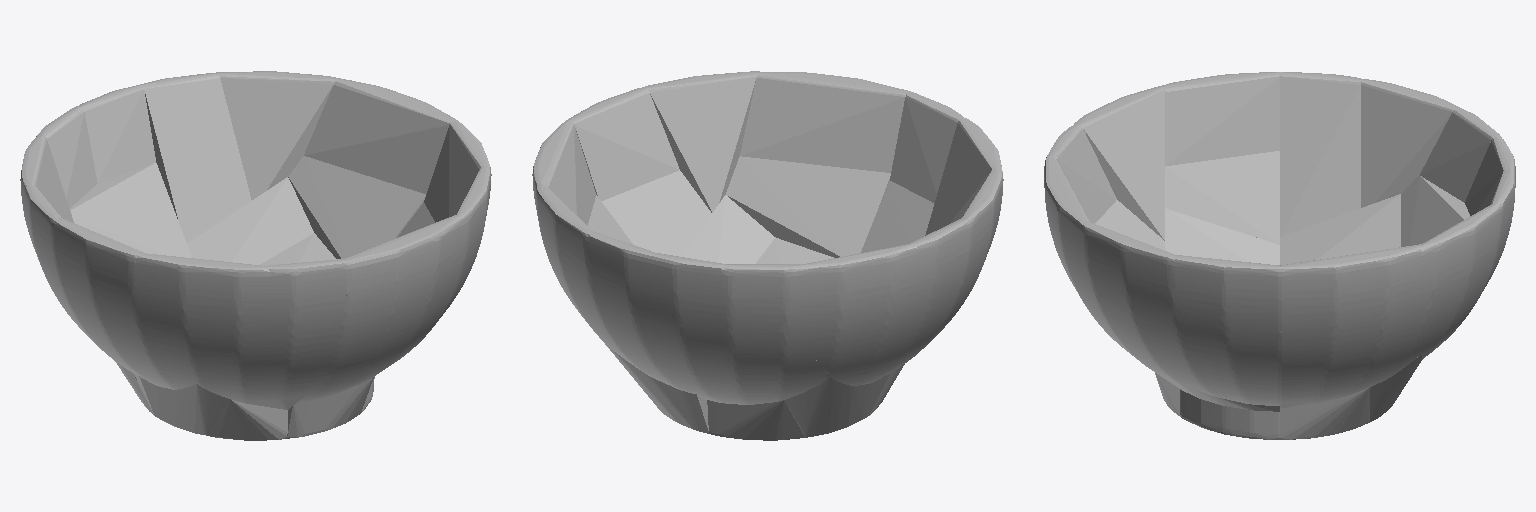
URDF robot description (root):
<robot name="root">
  <link name="object">
    <visual>
      <origin xyz="0 0 0" rpy="0 0 0"/>
      <geometry>
        <mesh filename="coacd_convex_piece_0.obj" scale="1.0000E+00 1.0000E+00 1.0000E+00"/>
      </geometry>
      <material name="">
        <color rgba="7.50E-01 7.50E-01 7.50E-01 1"/>
      </material>
    </visual>
    <collision>
      <origin xyz="0 0 0" rpy="0 0 0"/>
      <geometry>
        <mesh filename="coacd_convex_piece_0.obj" scale="1.0000E+00 1.0000E+00 1.0000E+00"/>
      </geometry>
    </collision>
    <visual>
      <origin xyz="0 0 0" rpy="0 0 0"/>
      <geometry>
        <mesh filename="coacd_convex_piece_1.obj" scale="1.0000E+00 1.0000E+00 1.0000E+00"/>
      </geometry>
      <material name="">
        <color rgba="7.50E-01 7.50E-01 7.50E-01 1"/>
      </material>
    </visual>
    <collision>
      <origin xyz="0 0 0" rpy="0 0 0"/>
      <geometry>
        <mesh filename="coacd_convex_piece_1.obj" scale="1.0000E+00 1.0000E+00 1.0000E+00"/>
      </geometry>
    </collision>
    <visual>
      <origin xyz="0 0 0" rpy="0 0 0"/>
      <geometry>
        <mesh filename="coacd_convex_piece_2.obj" scale="1.0000E+00 1.0000E+00 1.0000E+00"/>
      </geometry>
      <material name="">
        <color rgba="7.50E-01 7.50E-01 7.50E-01 1"/>
      </material>
    </visual>
    <collision>
      <origin xyz="0 0 0" rpy="0 0 0"/>
      <geometry>
        <mesh filename="coacd_convex_piece_2.obj" scale="1.0000E+00 1.0000E+00 1.0000E+00"/>
      </geometry>
    </collision>
    <visual>
      <origin xyz="0 0 0" rpy="0 0 0"/>
      <geometry>
        <mesh filename="coacd_convex_piece_3.obj" scale="1.0000E+00 1.0000E+00 1.0000E+00"/>
      </geometry>
      <material name="">
        <color rgba="7.50E-01 7.50E-01 7.50E-01 1"/>
      </material>
    </visual>
    <collision>
      <origin xyz="0 0 0" rpy="0 0 0"/>
      <geometry>
        <mesh filename="coacd_convex_piece_3.obj" scale="1.0000E+00 1.0000E+00 1.0000E+00"/>
      </geometry>
    </collision>
    <visual>
      <origin xyz="0 0 0" rpy="0 0 0"/>
      <geometry>
        <mesh filename="coacd_convex_piece_4.obj" scale="1.0000E+00 1.0000E+00 1.0000E+00"/>
      </geometry>
      <material name="">
        <color rgba="7.50E-01 7.50E-01 7.50E-01 1"/>
      </material>
    </visual>
    <collision>
      <origin xyz="0 0 0" rpy="0 0 0"/>
      <geometry>
        <mesh filename="coacd_convex_piece_4.obj" scale="1.0000E+00 1.0000E+00 1.0000E+00"/>
      </geometry>
    </collision>
    <visual>
      <origin xyz="0 0 0" rpy="0 0 0"/>
      <geometry>
        <mesh filename="coacd_convex_piece_5.obj" scale="1.0000E+00 1.0000E+00 1.0000E+00"/>
      </geometry>
      <material name="">
        <color rgba="7.50E-01 7.50E-01 7.50E-01 1"/>
      </material>
    </visual>
    <collision>
      <origin xyz="0 0 0" rpy="0 0 0"/>
      <geometry>
        <mesh filename="coacd_convex_piece_5.obj" scale="1.0000E+00 1.0000E+00 1.0000E+00"/>
      </geometry>
    </collision>
    <visual>
      <origin xyz="0 0 0" rpy="0 0 0"/>
      <geometry>
        <mesh filename="coacd_convex_piece_6.obj" scale="1.0000E+00 1.0000E+00 1.0000E+00"/>
      </geometry>
      <material name="">
        <color rgba="7.50E-01 7.50E-01 7.50E-01 1"/>
      </material>
    </visual>
    <collision>
      <origin xyz="0 0 0" rpy="0 0 0"/>
      <geometry>
        <mesh filename="coacd_convex_piece_6.obj" scale="1.0000E+00 1.0000E+00 1.0000E+00"/>
      </geometry>
    </collision>
    <visual>
      <origin xyz="0 0 0" rpy="0 0 0"/>
      <geometry>
        <mesh filename="coacd_convex_piece_7.obj" scale="1.0000E+00 1.0000E+00 1.0000E+00"/>
      </geometry>
      <material name="">
        <color rgba="7.50E-01 7.50E-01 7.50E-01 1"/>
      </material>
    </visual>
    <collision>
      <origin xyz="0 0 0" rpy="0 0 0"/>
      <geometry>
        <mesh filename="coacd_convex_piece_7.obj" scale="1.0000E+00 1.0000E+00 1.0000E+00"/>
      </geometry>
    </collision>
    <visual>
      <origin xyz="0 0 0" rpy="0 0 0"/>
      <geometry>
        <mesh filename="coacd_convex_piece_8.obj" scale="1.0000E+00 1.0000E+00 1.0000E+00"/>
      </geometry>
      <material name="">
        <color rgba="7.50E-01 7.50E-01 7.50E-01 1"/>
      </material>
    </visual>
    <collision>
      <origin xyz="0 0 0" rpy="0 0 0"/>
      <geometry>
        <mesh filename="coacd_convex_piece_8.obj" scale="1.0000E+00 1.0000E+00 1.0000E+00"/>
      </geometry>
    </collision>
    <visual>
      <origin xyz="0 0 0" rpy="0 0 0"/>
      <geometry>
        <mesh filename="coacd_convex_piece_9.obj" scale="1.0000E+00 1.0000E+00 1.0000E+00"/>
      </geometry>
      <material name="">
        <color rgba="7.50E-01 7.50E-01 7.50E-01 1"/>
      </material>
    </visual>
    <collision>
      <origin xyz="0 0 0" rpy="0 0 0"/>
      <geometry>
        <mesh filename="coacd_convex_piece_9.obj" scale="1.0000E+00 1.0000E+00 1.0000E+00"/>
      </geometry>
    </collision>
    <visual>
      <origin xyz="0 0 0" rpy="0 0 0"/>
      <geometry>
        <mesh filename="coacd_convex_piece_10.obj" scale="1.0000E+00 1.0000E+00 1.0000E+00"/>
      </geometry>
      <material name="">
        <color rgba="7.50E-01 7.50E-01 7.50E-01 1"/>
      </material>
    </visual>
    <collision>
      <origin xyz="0 0 0" rpy="0 0 0"/>
      <geometry>
        <mesh filename="coacd_convex_piece_10.obj" scale="1.0000E+00 1.0000E+00 1.0000E+00"/>
      </geometry>
    </collision>
    <visual>
      <origin xyz="0 0 0" rpy="0 0 0"/>
      <geometry>
        <mesh filename="coacd_convex_piece_11.obj" scale="1.0000E+00 1.0000E+00 1.0000E+00"/>
      </geometry>
      <material name="">
        <color rgba="7.50E-01 7.50E-01 7.50E-01 1"/>
      </material>
    </visual>
    <collision>
      <origin xyz="0 0 0" rpy="0 0 0"/>
      <geometry>
        <mesh filename="coacd_convex_piece_11.obj" scale="1.0000E+00 1.0000E+00 1.0000E+00"/>
      </geometry>
    </collision>
    <visual>
      <origin xyz="0 0 0" rpy="0 0 0"/>
      <geometry>
        <mesh filename="coacd_convex_piece_12.obj" scale="1.0000E+00 1.0000E+00 1.0000E+00"/>
      </geometry>
      <material name="">
        <color rgba="7.50E-01 7.50E-01 7.50E-01 1"/>
      </material>
    </visual>
    <collision>
      <origin xyz="0 0 0" rpy="0 0 0"/>
      <geometry>
        <mesh filename="coacd_convex_piece_12.obj" scale="1.0000E+00 1.0000E+00 1.0000E+00"/>
      </geometry>
    </collision>
    <visual>
      <origin xyz="0 0 0" rpy="0 0 0"/>
      <geometry>
        <mesh filename="coacd_convex_piece_13.obj" scale="1.0000E+00 1.0000E+00 1.0000E+00"/>
      </geometry>
      <material name="">
        <color rgba="7.50E-01 7.50E-01 7.50E-01 1"/>
      </material>
    </visual>
    <collision>
      <origin xyz="0 0 0" rpy="0 0 0"/>
      <geometry>
        <mesh filename="coacd_convex_piece_13.obj" scale="1.0000E+00 1.0000E+00 1.0000E+00"/>
      </geometry>
    </collision>
    <visual>
      <origin xyz="0 0 0" rpy="0 0 0"/>
      <geometry>
        <mesh filename="coacd_convex_piece_14.obj" scale="1.0000E+00 1.0000E+00 1.0000E+00"/>
      </geometry>
      <material name="">
        <color rgba="7.50E-01 7.50E-01 7.50E-01 1"/>
      </material>
    </visual>
    <collision>
      <origin xyz="0 0 0" rpy="0 0 0"/>
      <geometry>
        <mesh filename="coacd_convex_piece_14.obj" scale="1.0000E+00 1.0000E+00 1.0000E+00"/>
      </geometry>
    </collision>
    <visual>
      <origin xyz="0 0 0" rpy="0 0 0"/>
      <geometry>
        <mesh filename="coacd_convex_piece_15.obj" scale="1.0000E+00 1.0000E+00 1.0000E+00"/>
      </geometry>
      <material name="">
        <color rgba="7.50E-01 7.50E-01 7.50E-01 1"/>
      </material>
    </visual>
    <collision>
      <origin xyz="0 0 0" rpy="0 0 0"/>
      <geometry>
        <mesh filename="coacd_convex_piece_15.obj" scale="1.0000E+00 1.0000E+00 1.0000E+00"/>
      </geometry>
    </collision>
    <visual>
      <origin xyz="0 0 0" rpy="0 0 0"/>
      <geometry>
        <mesh filename="coacd_convex_piece_16.obj" scale="1.0000E+00 1.0000E+00 1.0000E+00"/>
      </geometry>
      <material name="">
        <color rgba="7.50E-01 7.50E-01 7.50E-01 1"/>
      </material>
    </visual>
    <collision>
      <origin xyz="0 0 0" rpy="0 0 0"/>
      <geometry>
        <mesh filename="coacd_convex_piece_16.obj" scale="1.0000E+00 1.0000E+00 1.0000E+00"/>
      </geometry>
    </collision>
    <visual>
      <origin xyz="0 0 0" rpy="0 0 0"/>
      <geometry>
        <mesh filename="coacd_convex_piece_17.obj" scale="1.0000E+00 1.0000E+00 1.0000E+00"/>
      </geometry>
      <material name="">
        <color rgba="7.50E-01 7.50E-01 7.50E-01 1"/>
      </material>
    </visual>
    <collision>
      <origin xyz="0 0 0" rpy="0 0 0"/>
      <geometry>
        <mesh filename="coacd_convex_piece_17.obj" scale="1.0000E+00 1.0000E+00 1.0000E+00"/>
      </geometry>
    </collision>
    <visual>
      <origin xyz="0 0 0" rpy="0 0 0"/>
      <geometry>
        <mesh filename="coacd_convex_piece_18.obj" scale="1.0000E+00 1.0000E+00 1.0000E+00"/>
      </geometry>
      <material name="">
        <color rgba="7.50E-01 7.50E-01 7.50E-01 1"/>
      </material>
    </visual>
    <collision>
      <origin xyz="0 0 0" rpy="0 0 0"/>
      <geometry>
        <mesh filename="coacd_convex_piece_18.obj" scale="1.0000E+00 1.0000E+00 1.0000E+00"/>
      </geometry>
    </collision>
    <visual>
      <origin xyz="0 0 0" rpy="0 0 0"/>
      <geometry>
        <mesh filename="coacd_convex_piece_19.obj" scale="1.0000E+00 1.0000E+00 1.0000E+00"/>
      </geometry>
      <material name="">
        <color rgba="7.50E-01 7.50E-01 7.50E-01 1"/>
      </material>
    </visual>
    <collision>
      <origin xyz="0 0 0" rpy="0 0 0"/>
      <geometry>
        <mesh filename="coacd_convex_piece_19.obj" scale="1.0000E+00 1.0000E+00 1.0000E+00"/>
      </geometry>
    </collision>
    <visual>
      <origin xyz="0 0 0" rpy="0 0 0"/>
      <geometry>
        <mesh filename="coacd_convex_piece_20.obj" scale="1.0000E+00 1.0000E+00 1.0000E+00"/>
      </geometry>
      <material name="">
        <color rgba="7.50E-01 7.50E-01 7.50E-01 1"/>
      </material>
    </visual>
    <collision>
      <origin xyz="0 0 0" rpy="0 0 0"/>
      <geometry>
        <mesh filename="coacd_convex_piece_20.obj" scale="1.0000E+00 1.0000E+00 1.0000E+00"/>
      </geometry>
    </collision>
    <visual>
      <origin xyz="0 0 0" rpy="0 0 0"/>
      <geometry>
        <mesh filename="coacd_convex_piece_21.obj" scale="1.0000E+00 1.0000E+00 1.0000E+00"/>
      </geometry>
      <material name="">
        <color rgba="7.50E-01 7.50E-01 7.50E-01 1"/>
      </material>
    </visual>
    <collision>
      <origin xyz="0 0 0" rpy="0 0 0"/>
      <geometry>
        <mesh filename="coacd_convex_piece_21.obj" scale="1.0000E+00 1.0000E+00 1.0000E+00"/>
      </geometry>
    </collision>
    <visual>
      <origin xyz="0 0 0" rpy="0 0 0"/>
      <geometry>
        <mesh filename="coacd_convex_piece_22.obj" scale="1.0000E+00 1.0000E+00 1.0000E+00"/>
      </geometry>
      <material name="">
        <color rgba="7.50E-01 7.50E-01 7.50E-01 1"/>
      </material>
    </visual>
    <collision>
      <origin xyz="0 0 0" rpy="0 0 0"/>
      <geometry>
        <mesh filename="coacd_convex_piece_22.obj" scale="1.0000E+00 1.0000E+00 1.0000E+00"/>
      </geometry>
    </collision>
    <visual>
      <origin xyz="0 0 0" rpy="0 0 0"/>
      <geometry>
        <mesh filename="coacd_convex_piece_23.obj" scale="1.0000E+00 1.0000E+00 1.0000E+00"/>
      </geometry>
      <material name="">
        <color rgba="7.50E-01 7.50E-01 7.50E-01 1"/>
      </material>
    </visual>
    <collision>
      <origin xyz="0 0 0" rpy="0 0 0"/>
      <geometry>
        <mesh filename="coacd_convex_piece_23.obj" scale="1.0000E+00 1.0000E+00 1.0000E+00"/>
      </geometry>
    </collision>
    <visual>
      <origin xyz="0 0 0" rpy="0 0 0"/>
      <geometry>
        <mesh filename="coacd_convex_piece_24.obj" scale="1.0000E+00 1.0000E+00 1.0000E+00"/>
      </geometry>
      <material name="">
        <color rgba="7.50E-01 7.50E-01 7.50E-01 1"/>
      </material>
    </visual>
    <collision>
      <origin xyz="0 0 0" rpy="0 0 0"/>
      <geometry>
        <mesh filename="coacd_convex_piece_24.obj" scale="1.0000E+00 1.0000E+00 1.0000E+00"/>
      </geometry>
    </collision>
    <visual>
      <origin xyz="0 0 0" rpy="0 0 0"/>
      <geometry>
        <mesh filename="coacd_convex_piece_25.obj" scale="1.0000E+00 1.0000E+00 1.0000E+00"/>
      </geometry>
      <material name="">
        <color rgba="7.50E-01 7.50E-01 7.50E-01 1"/>
      </material>
    </visual>
    <collision>
      <origin xyz="0 0 0" rpy="0 0 0"/>
      <geometry>
        <mesh filename="coacd_convex_piece_25.obj" scale="1.0000E+00 1.0000E+00 1.0000E+00"/>
      </geometry>
    </collision>
    <visual>
      <origin xyz="0 0 0" rpy="0 0 0"/>
      <geometry>
        <mesh filename="coacd_convex_piece_26.obj" scale="1.0000E+00 1.0000E+00 1.0000E+00"/>
      </geometry>
      <material name="">
        <color rgba="7.50E-01 7.50E-01 7.50E-01 1"/>
      </material>
    </visual>
    <collision>
      <origin xyz="0 0 0" rpy="0 0 0"/>
      <geometry>
        <mesh filename="coacd_convex_piece_26.obj" scale="1.0000E+00 1.0000E+00 1.0000E+00"/>
      </geometry>
    </collision>
    <visual>
      <origin xyz="0 0 0" rpy="0 0 0"/>
      <geometry>
        <mesh filename="coacd_convex_piece_27.obj" scale="1.0000E+00 1.0000E+00 1.0000E+00"/>
      </geometry>
      <material name="">
        <color rgba="7.50E-01 7.50E-01 7.50E-01 1"/>
      </material>
    </visual>
    <collision>
      <origin xyz="0 0 0" rpy="0 0 0"/>
      <geometry>
        <mesh filename="coacd_convex_piece_27.obj" scale="1.0000E+00 1.0000E+00 1.0000E+00"/>
      </geometry>
    </collision>
  </link>
</robot>

--- Render facts (derived) ---
Views: 3 orthographic renders of the robot side by side, from view 1: azimuth 30°, elevation 25°; view 2: azimuth 150°, elevation 25°; view 3: azimuth 270°, elevation 25°.
Model root with 1 links and 0 joints (none), rooted at object, posed all joints at 0.
Links seen in each view (by area): view 1: object; view 2: object; view 3: object.
Link boxes in pixels (left/top/right/bottom): object: left=20, top=71, right=491, bottom=440; object: left=532, top=71, right=1003, bottom=440; object: left=1044, top=72, right=1515, bottom=439.
Size in the robot's own frame: 0.1503 by 0.1505 by 0.0782 metres.
Meshes: 28 distinct files referenced, 28 mesh visuals loaded (28 OBJ).
